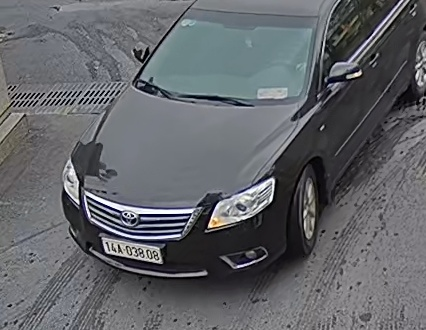vehicle plate: (105, 234, 165, 272)
